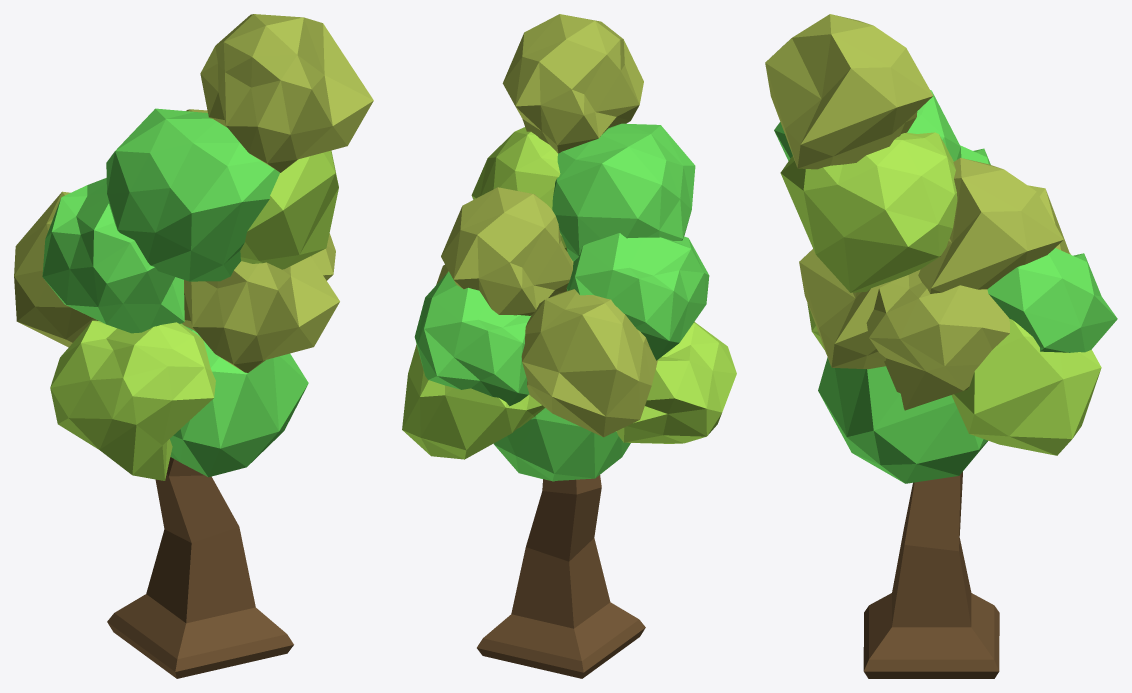
Rendered from Bummelbaum.fbx.
3 renders of one model, left to right at view 1: azimuth 30°, elevation 25°; view 2: azimuth 150°, elevation 25°; view 3: azimuth 270°, elevation 25°, orthographic. The views are drawn at different scales.
Parts seen in each view (by area): view 1: tree1; view 2: tree1; view 3: tree1.
Part boxes in pixels (left/top/right/bottom): tree1: left=14, top=14, right=373, bottom=678; tree1: left=402, top=14, right=736, bottom=678; tree1: left=765, top=14, right=1117, bottom=678.
Bounding box in the file's own units: 213 × 451 × 223.
